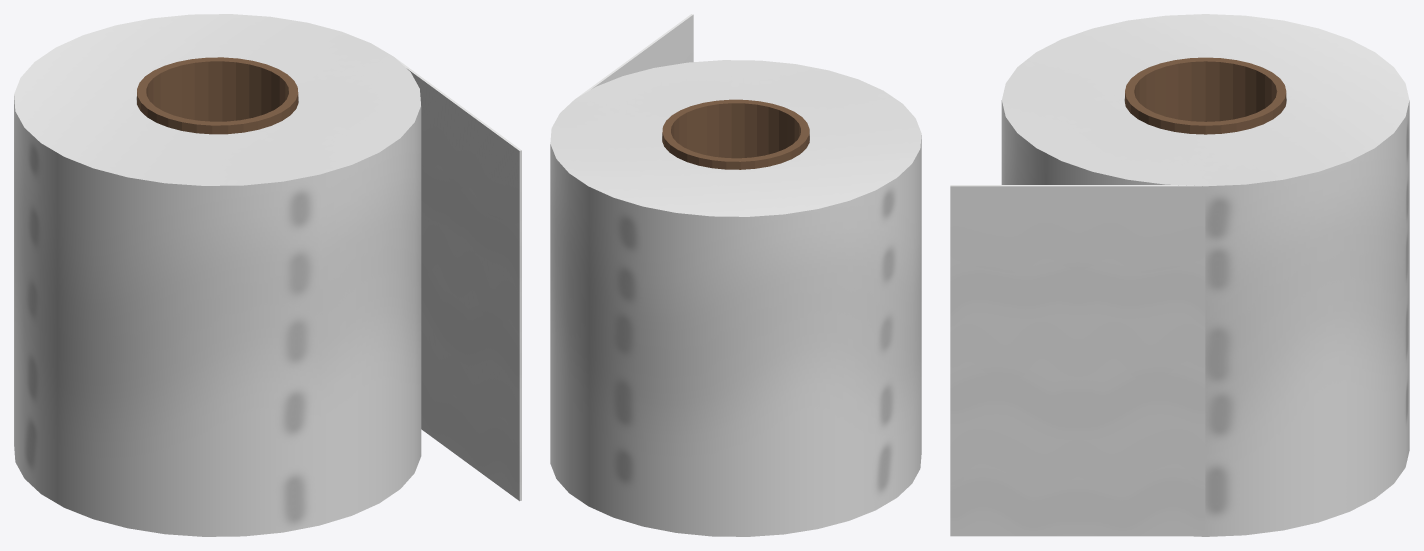
File: ToiletPaperRoll.fbx
3 views of the same model, side by side, from view 1: azimuth 30°, elevation 25°; view 2: azimuth 150°, elevation 25°; view 3: azimuth 270°, elevation 25° (orthographic). The views are drawn at different scales.
Visible parts, largest first — view 1: Loose Piece.001; view 2: Loose Piece.001; view 3: Loose Piece.001.
Boxes of the visible parts, bbox=[...] form: Loose Piece.001: bbox=[14, 14, 521, 536]; Loose Piece.001: bbox=[550, 14, 921, 536]; Loose Piece.001: bbox=[950, 14, 1409, 536].
Size of the model in its own units: 34.35 by 34.6 by 38.68.
Materials: 3 (2 with a texture image).
